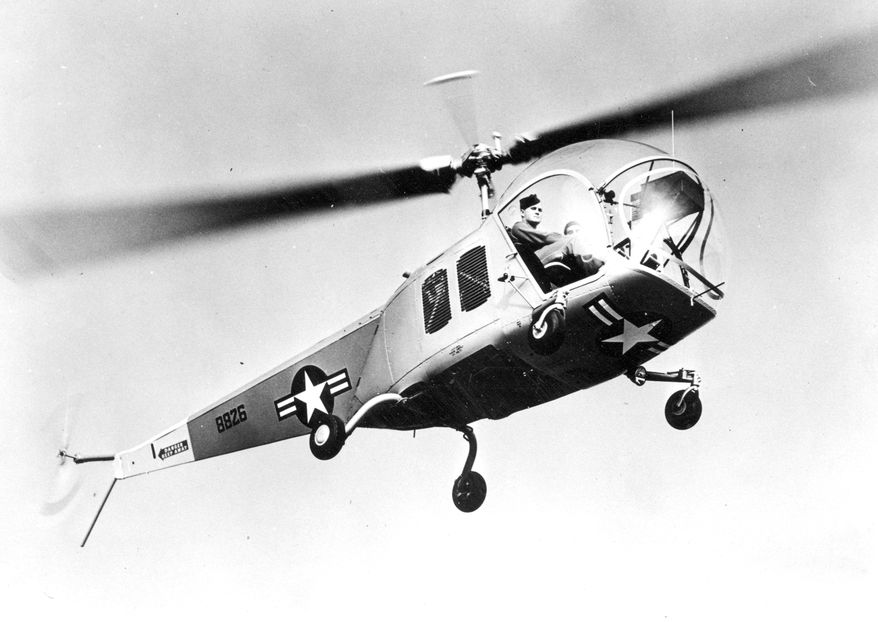MilitaryHelicopter: (47, 77, 721, 518)
